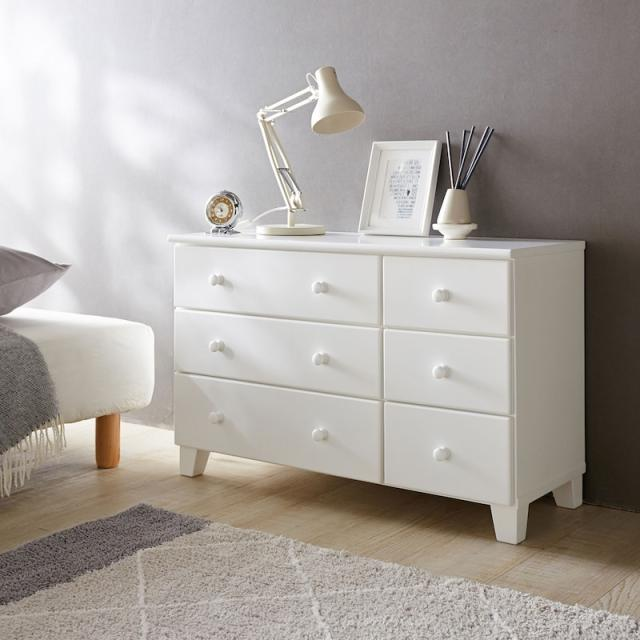white shelf: (163, 218, 602, 552)
